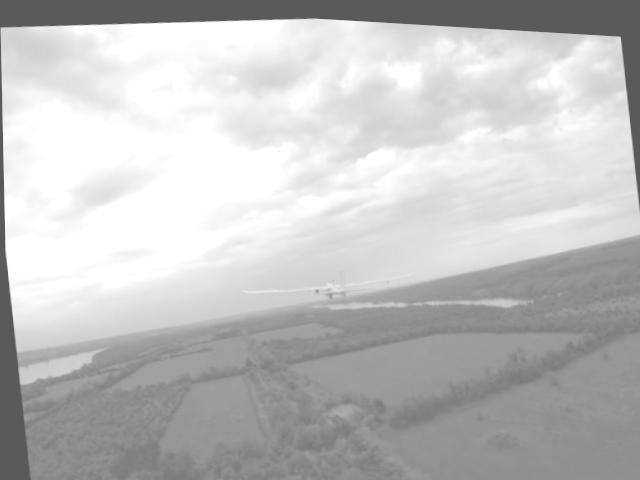hedef: (222, 249, 430, 323)
